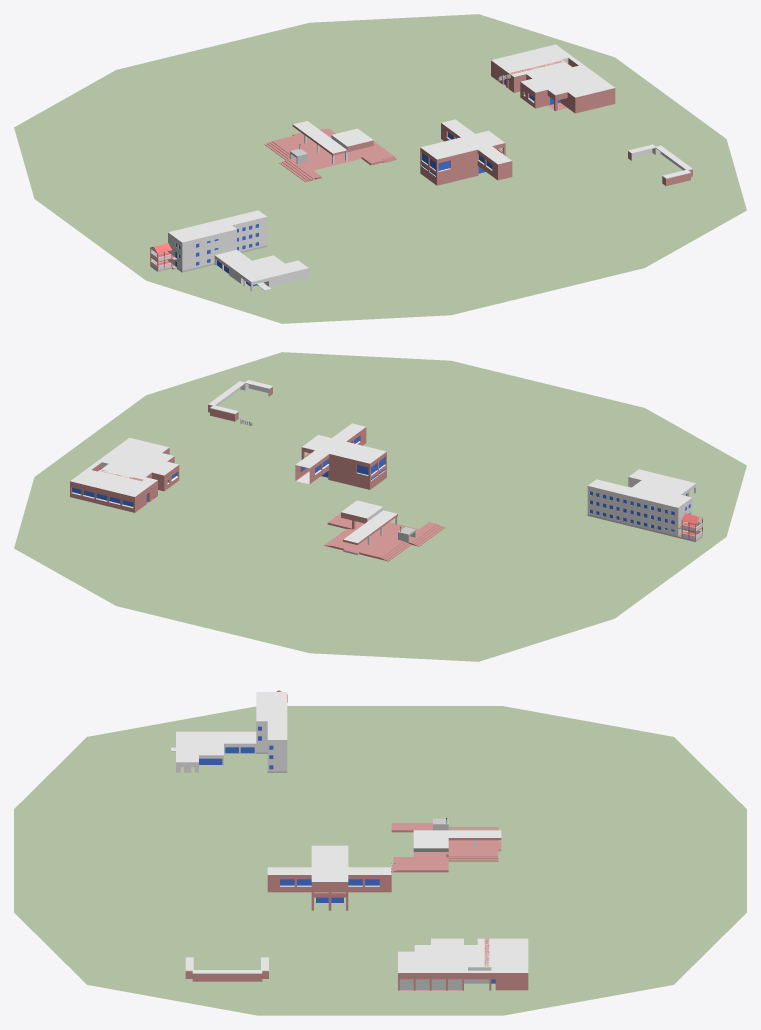
Rendered from mizusawa_all.glb.
The picture shows the model from 3 angles, top to bottom: view 1: azimuth 30°, elevation 25°; view 2: azimuth 150°, elevation 25°; view 3: azimuth 270°, elevation 25°; orthographic projection. The views are drawn at different scales.
Visible parts, largest first — view 1: 平面.006, 離れの校舎, 寮・本体, 渡り廊下・本校舎～別校舎, 本校舎の段差, 寮・エントランス, 渡り廊下・本校舎～体育館, 駐輪場; view 2: 平面.006, 離れの校舎, 寮・本体, 渡り廊下・本校舎～別校舎, 本校舎の段差, 渡り廊下・本校舎～体育館, 寮・エントランス, 駐輪場; view 3: 平面.006, 離れの校舎, 渡り廊下・本校舎～別校舎, 本校舎の段差, 寮・エントランス, 寮・本体, 渡り廊下・本校舎～体育館, 駐輪場.
Boxes of the visible parts, box(x1,y1,x2,y2) form: 平面.006: box(14, 14, 746, 323); 離れの校舎: box(491, 44, 615, 113); 寮・本体: box(150, 210, 267, 272); 渡り廊下・本校舎～別校舎: box(420, 119, 512, 185); 本校舎の段差: box(264, 128, 396, 181); 寮・エントランス: box(214, 250, 308, 291); 渡り廊下・本校舎～体育館: box(292, 121, 373, 164); 駐輪場: box(628, 144, 692, 186); 平面.006: box(14, 352, 746, 661); 離れの校舎: box(70, 437, 179, 512); 寮・本体: box(587, 479, 703, 542); 渡り廊下・本校舎～別校舎: box(295, 423, 386, 489); 本校舎の段差: box(324, 513, 445, 561); 渡り廊下・本校舎～体育館: box(341, 500, 397, 545); 寮・エントランス: box(628, 469, 696, 496); 駐輪場: box(208, 380, 272, 421); 平面.006: box(14, 706, 746, 1015); 離れの校舎: box(398, 938, 528, 990); 渡り廊下・本校舎～別校舎: box(267, 845, 391, 910); 本校舎の段差: box(391, 823, 501, 872); 寮・エントランス: box(171, 731, 256, 772); 寮・本体: box(256, 690, 287, 772); 渡り廊下・本校舎～体育館: box(413, 830, 501, 857); 駐輪場: box(185, 957, 268, 981).
Bounding box in the file's own units: 60.38 × 5.81 × 60.38.
Materials: 8 (8 with a texture image).
